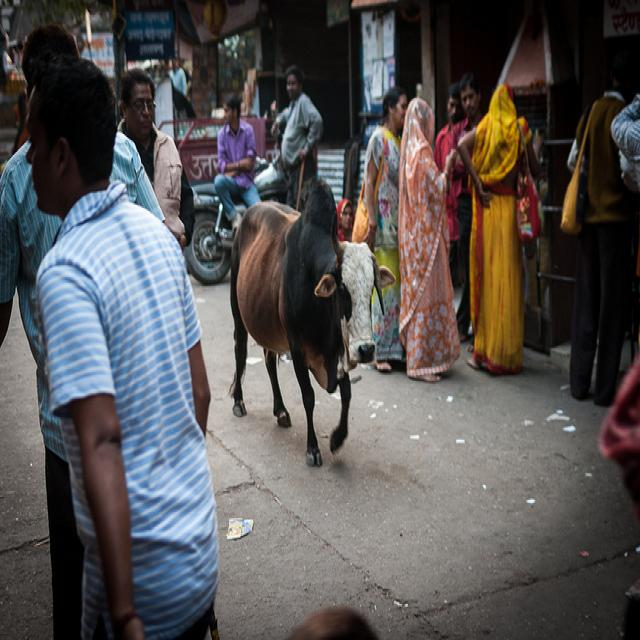motor: (183, 138, 294, 283)
